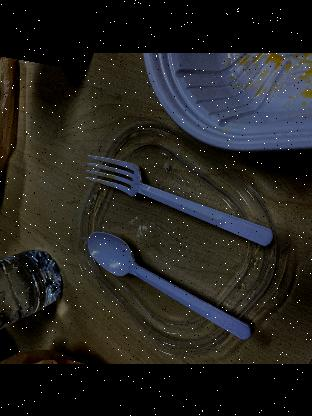Others: (86, 146, 280, 254), (82, 226, 258, 340)
